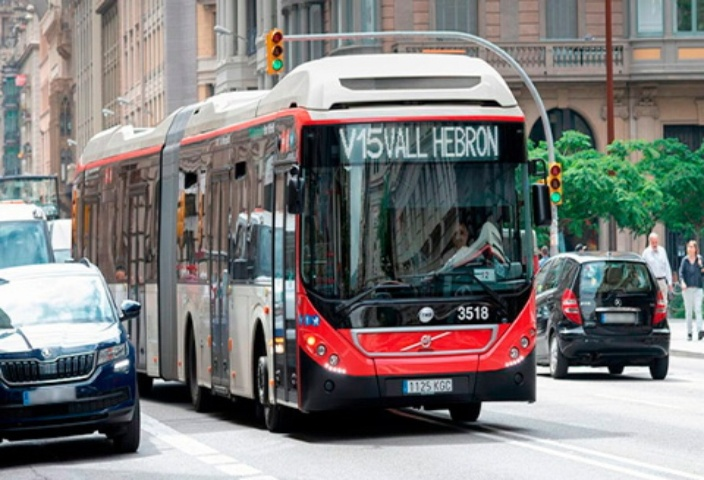bus: (54, 71, 546, 436)
car: (1, 253, 146, 468), (524, 231, 675, 389)
